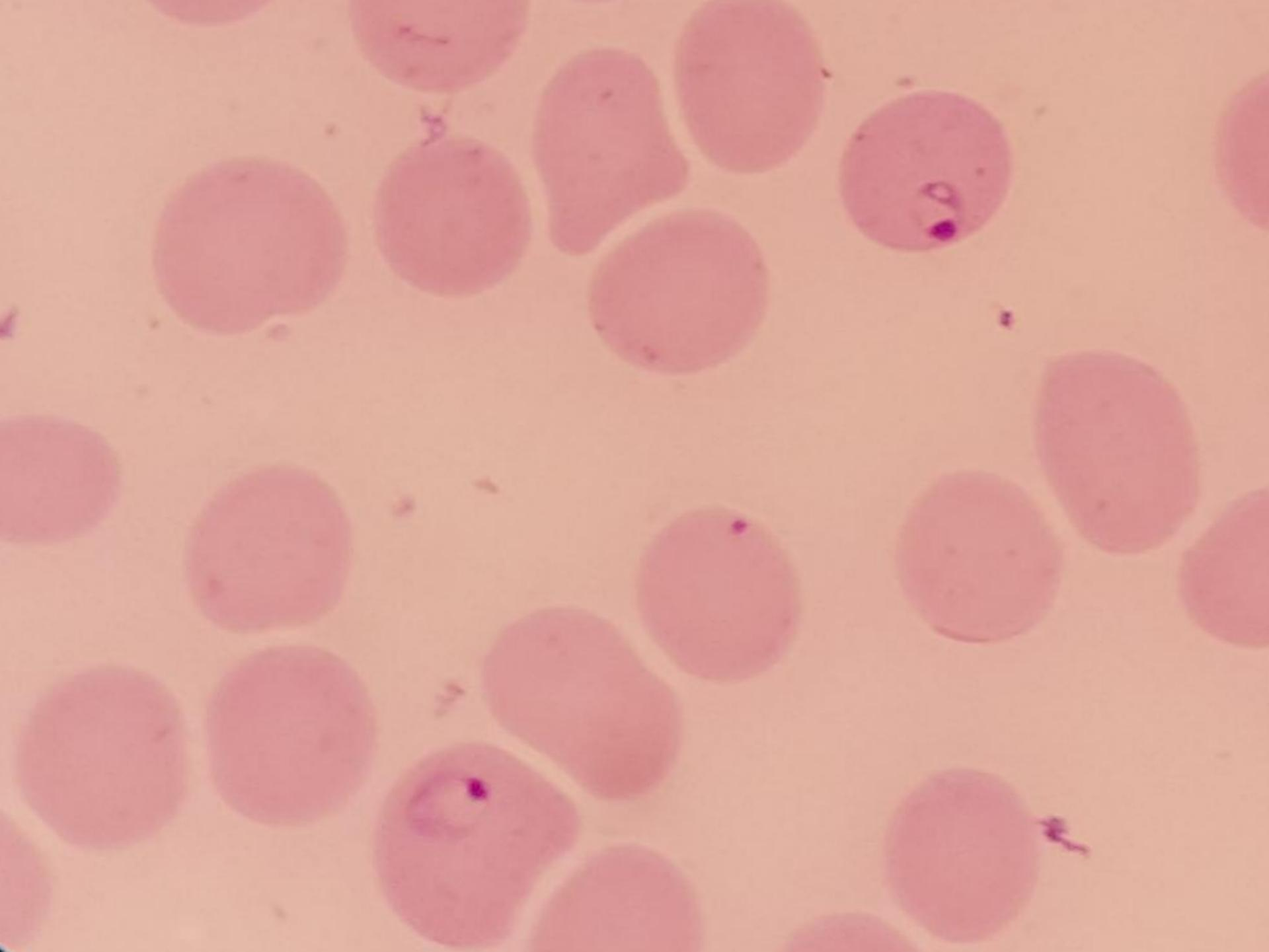Infected: (375, 743, 583, 952), (842, 82, 1013, 259)
Uninfected: (478, 604, 683, 802), (1029, 351, 1207, 555), (4, 666, 195, 846), (156, 153, 348, 329), (634, 505, 805, 689), (894, 465, 1063, 649), (185, 459, 355, 636), (207, 642, 373, 823), (538, 51, 690, 248), (586, 210, 764, 378), (875, 774, 1034, 951), (674, 0, 824, 170), (386, 137, 535, 300), (529, 838, 706, 952), (0, 413, 125, 551)
